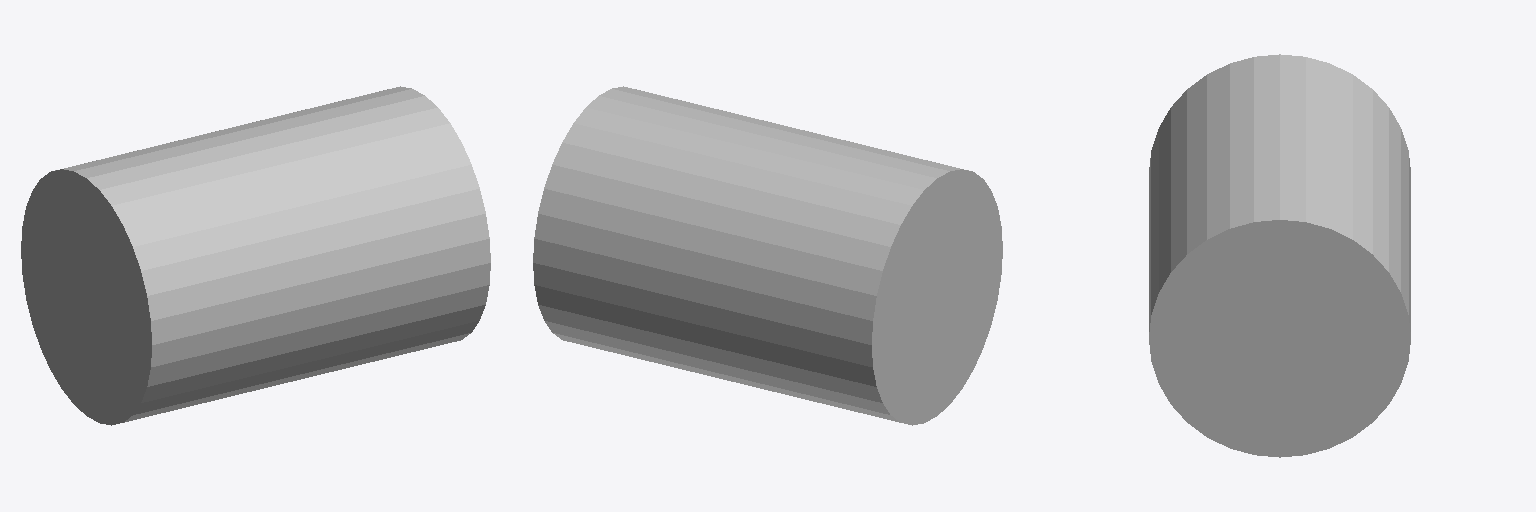
Rendered from BulletInner.obj.
The picture shows the model from 3 angles: view 1: azimuth 30°, elevation 25°; view 2: azimuth 150°, elevation 25°; view 3: azimuth 270°, elevation 25°; orthographic projection.
Visible parts, largest first — view 1: Cylinder; view 2: Cylinder; view 3: Cylinder.
Part boxes in pixels (bbox=[...]): Cylinder: bbox=[21, 86, 490, 425]; Cylinder: bbox=[533, 86, 1002, 425]; Cylinder: bbox=[1149, 54, 1410, 457].
Bounding box in the file's own units: 0.2198 × 0.1474 × 0.1474.